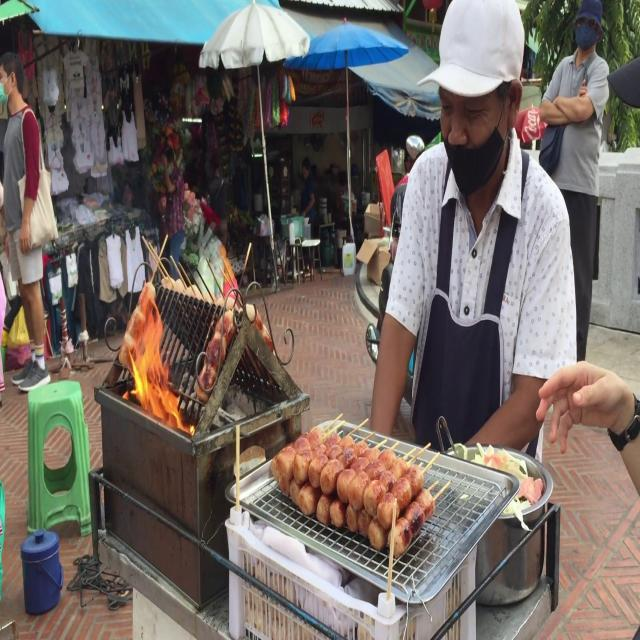Fire: (114, 274, 186, 434)
